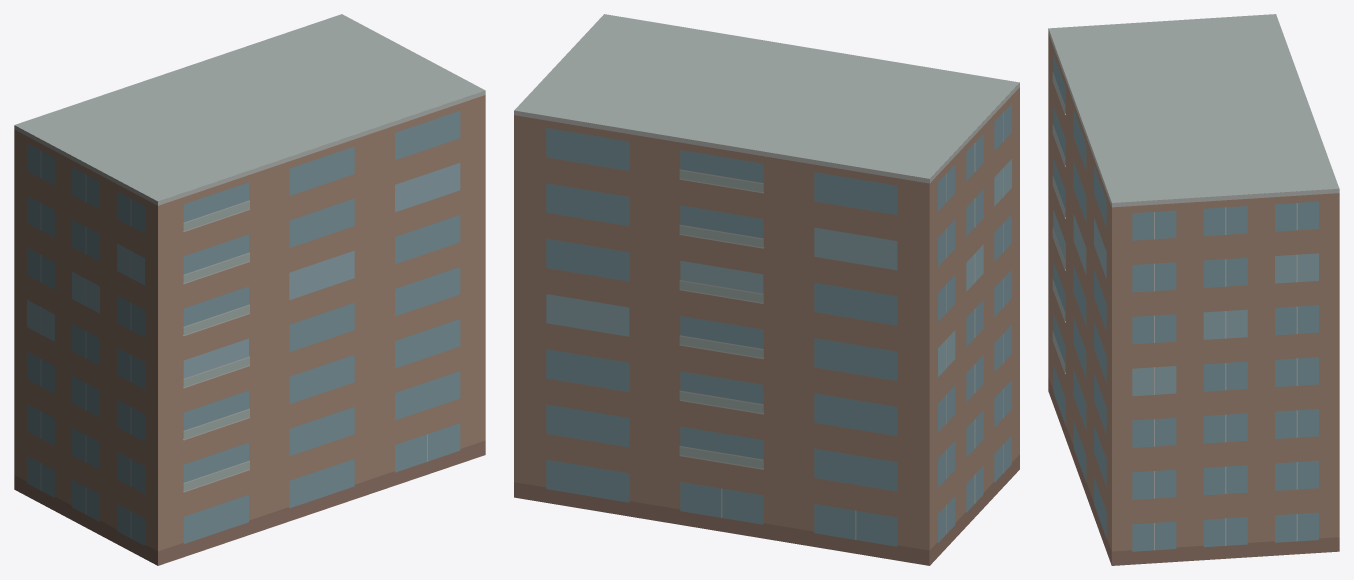
The model's file is survey-upis-32707827.glb.
The picture shows the model from 3 angles, left to right: view 1: azimuth 30°, elevation 25°; view 2: azimuth 150°, elevation 25°; view 3: azimuth 270°, elevation 25°; orthographic projection. The views are drawn at different scales.
Parts seen in each view (by area): view 1: survey-upis-32707827.tmp; view 2: survey-upis-32707827.tmp; view 3: survey-upis-32707827.tmp.
Boxes of the visible parts, bbox=[...] form: survey-upis-32707827.tmp: bbox=[14, 14, 485, 565]; survey-upis-32707827.tmp: bbox=[514, 14, 1019, 565]; survey-upis-32707827.tmp: bbox=[1048, 14, 1339, 565].
Bounding box in the file's own units: 22.69 × 20.3 × 14.77.
